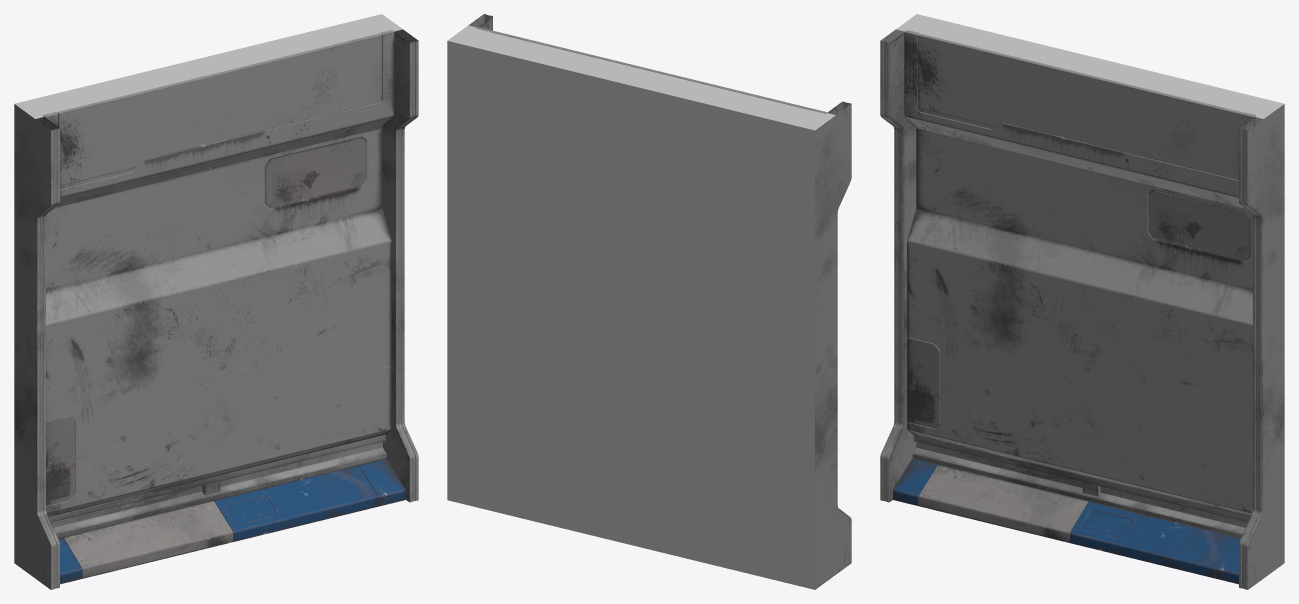
The model's file is SM_CorridorWall03.fbx.
3 renders of one model, left to right at view 1: azimuth 30°, elevation 25°; view 2: azimuth 150°, elevation 25°; view 3: azimuth 330°, elevation 25°, orthographic.
Visible parts, largest first — view 1: SM_CorridorWall03_LOD0; view 2: SM_CorridorWall03_LOD0; view 3: SM_CorridorWall03_LOD0.
Boxes of the visible parts, x1,y1,x2,y2 form: SM_CorridorWall03_LOD0: [14, 14, 418, 589]; SM_CorridorWall03_LOD0: [447, 14, 851, 589]; SM_CorridorWall03_LOD0: [880, 14, 1284, 589].
Size of the model in its own units: 320 by 55.37 by 382.
2 materials, 1 textured.
